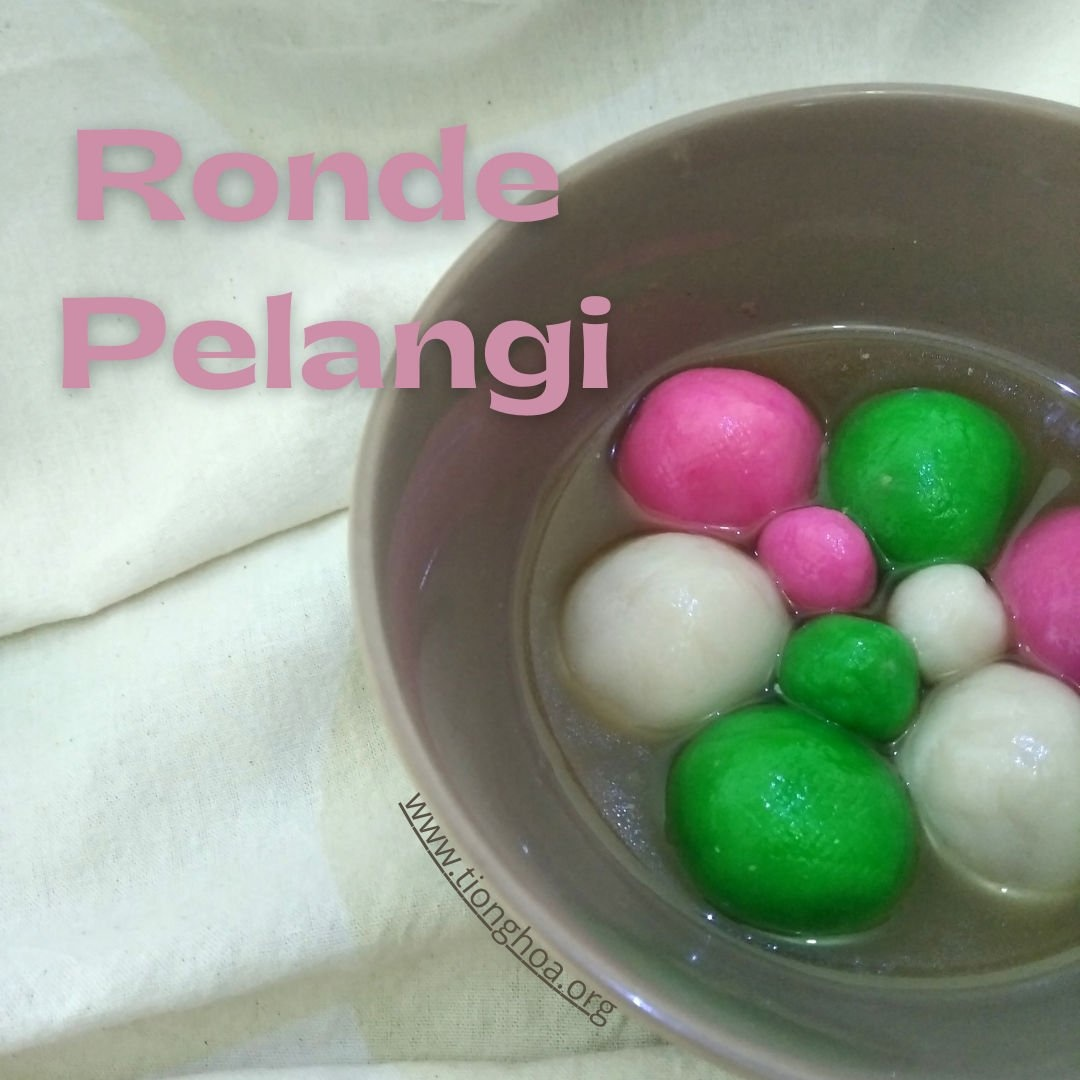ronde: (533, 325, 1080, 976)
